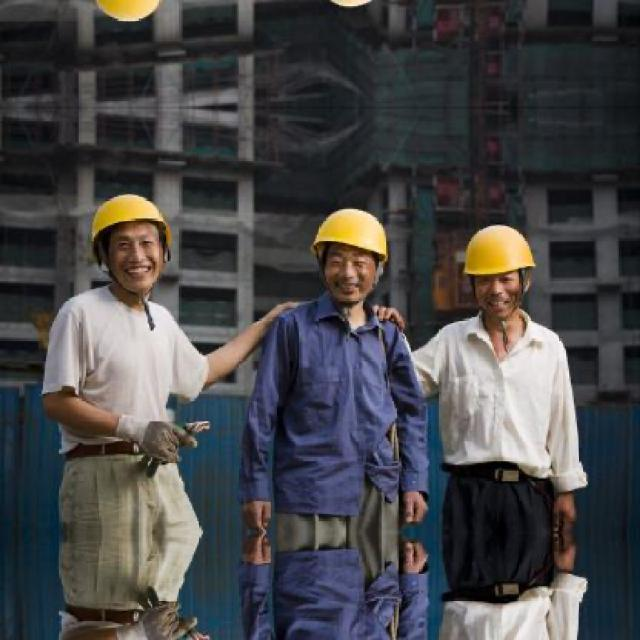helmet: (85, 175, 182, 298), (454, 209, 543, 323), (308, 194, 397, 306), (85, 0, 184, 38)
